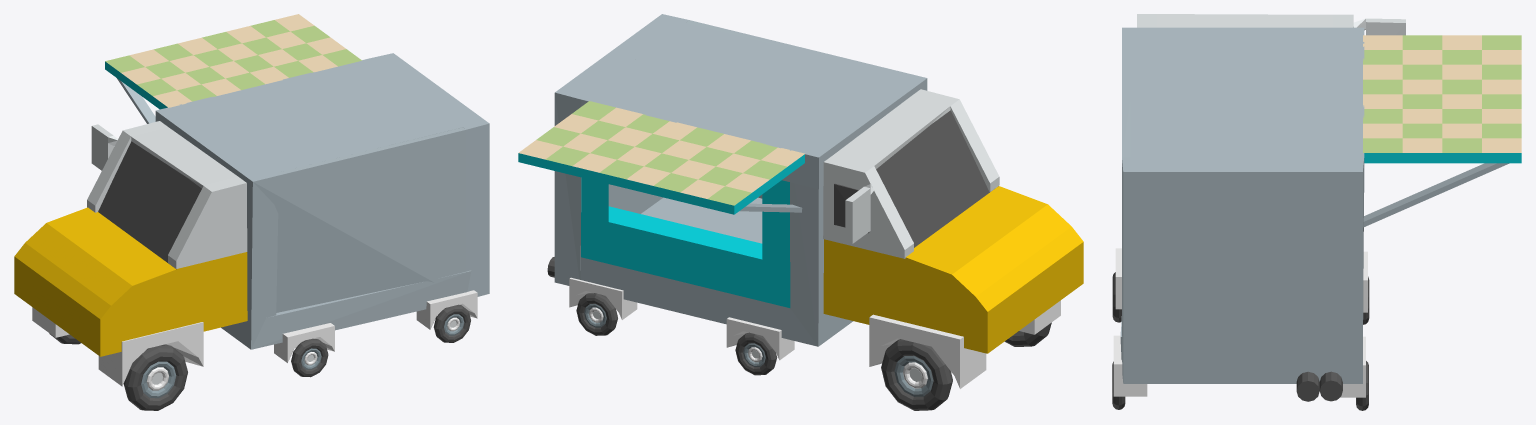
File: Open Truck.glb
3 views of the same model, side by side, from view 1: azimuth 30°, elevation 25°; view 2: azimuth 150°, elevation 25°; view 3: azimuth 270°, elevation 25° (orthographic). The views are drawn at different scales.
Visible parts, largest first — view 1: group934729322, group572770700, group1086031423, group1891252473, group1709927739, group1434556701, group959526367, group944767584, group965558297, group567284715, group1825844925, group368228645 (+7 smaller); view 2: group934729322, group1086031423, group1891252473, group346295656, group959526367, group1709927739, group1434556701, group368228645, group1808298422, group567284715, group2088504716, group1631651849 (+11 smaller); view 3: group1434556701, group1086031423, group1891252473, group1709927739, group567284715, group239368340, group572770700, group436816632, group884443619, group2146076598, group24178565, group938269490 (+1 smaller).
Part boxes in pixels (x1,y1,x2,y2): group934729322: (14, 141, 247, 356); group572770700: (253, 127, 465, 312); group1086031423: (155, 58, 462, 207); group1891252473: (105, 14, 361, 109); group1709927739: (175, 104, 278, 349); group1434556701: (369, 53, 489, 296); group959526367: (251, 270, 471, 349); group944767584: (168, 177, 247, 268); group965558297: (123, 345, 187, 410); group567284715: (131, 127, 237, 188); group1825844925: (98, 322, 203, 386); group368228645: (87, 121, 167, 212); group934729322: (823, 110, 1083, 353); group1086031423: (581, 23, 923, 188); group1891252473: (518, 101, 804, 214); group346295656: (608, 206, 790, 307); group959526367: (580, 197, 817, 346); group1709927739: (790, 71, 927, 346); group1434556701: (554, 14, 689, 285); group368228645: (823, 155, 913, 258); group1808298422: (881, 339, 952, 410); group567284715: (833, 96, 950, 168); group2088504716: (869, 314, 986, 388); group1631651849: (581, 177, 608, 263); group1434556701: (1122, 157, 1364, 383); group1086031423: (1130, 27, 1364, 192); group1891252473: (1363, 35, 1521, 163); group1709927739: (1122, 27, 1364, 43); group567284715: (1157, 14, 1332, 27); group239368340: (1363, 163, 1509, 226); group572770700: (1122, 43, 1130, 157); group436816632: (1113, 335, 1147, 396); group884443619: (1366, 18, 1405, 35); group2146076598: (1296, 371, 1319, 401); group24178565: (1319, 371, 1342, 401); group938269490: (1340, 336, 1365, 397).
Size of the model in its own units: 7.43 by 3.79 by 5.3.
